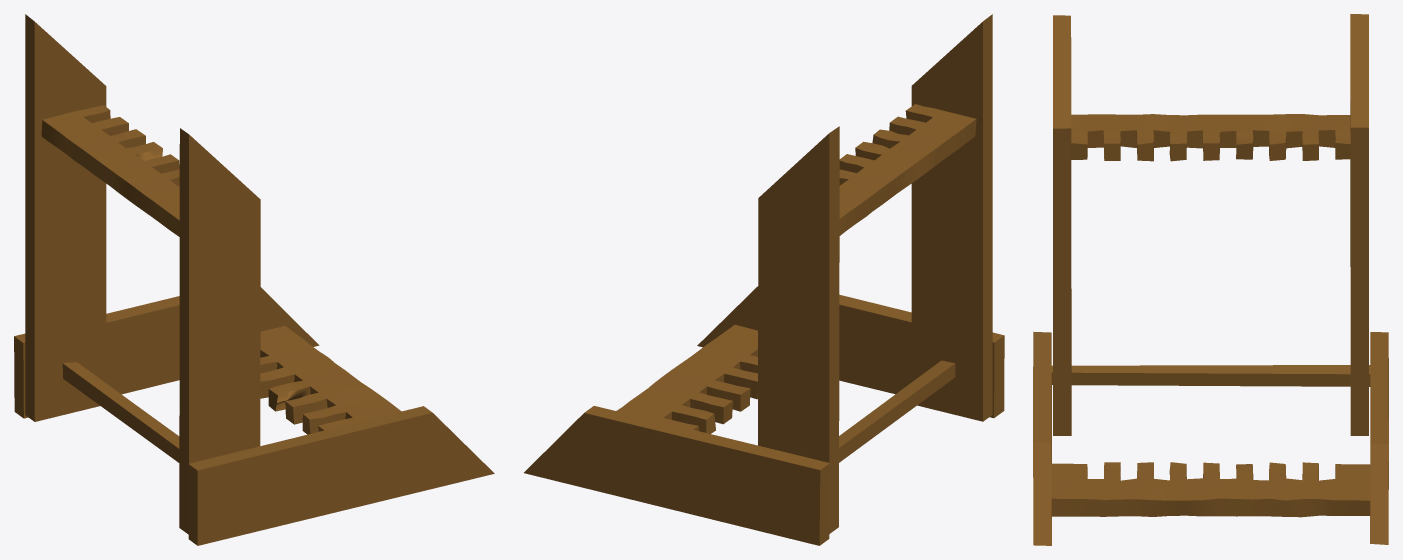
File: SM_WeaponRack_001.fbx
The picture shows the model from 3 angles, left to right: view 1: azimuth 30°, elevation 25°; view 2: azimuth 150°, elevation 25°; view 3: azimuth 270°, elevation 25°; orthographic projection. The views are drawn at different scales.
Visible parts, largest first — view 1: WeaponRack; view 2: WeaponRack; view 3: WeaponRack.
Part boxes in pixels (x1,y1,x2,y2): WeaponRack: (14,14,494,545); WeaponRack: (524,14,1004,545); WeaponRack: (1033,14,1388,545).
Size of the model in its own units: 100 by 130 by 107.
